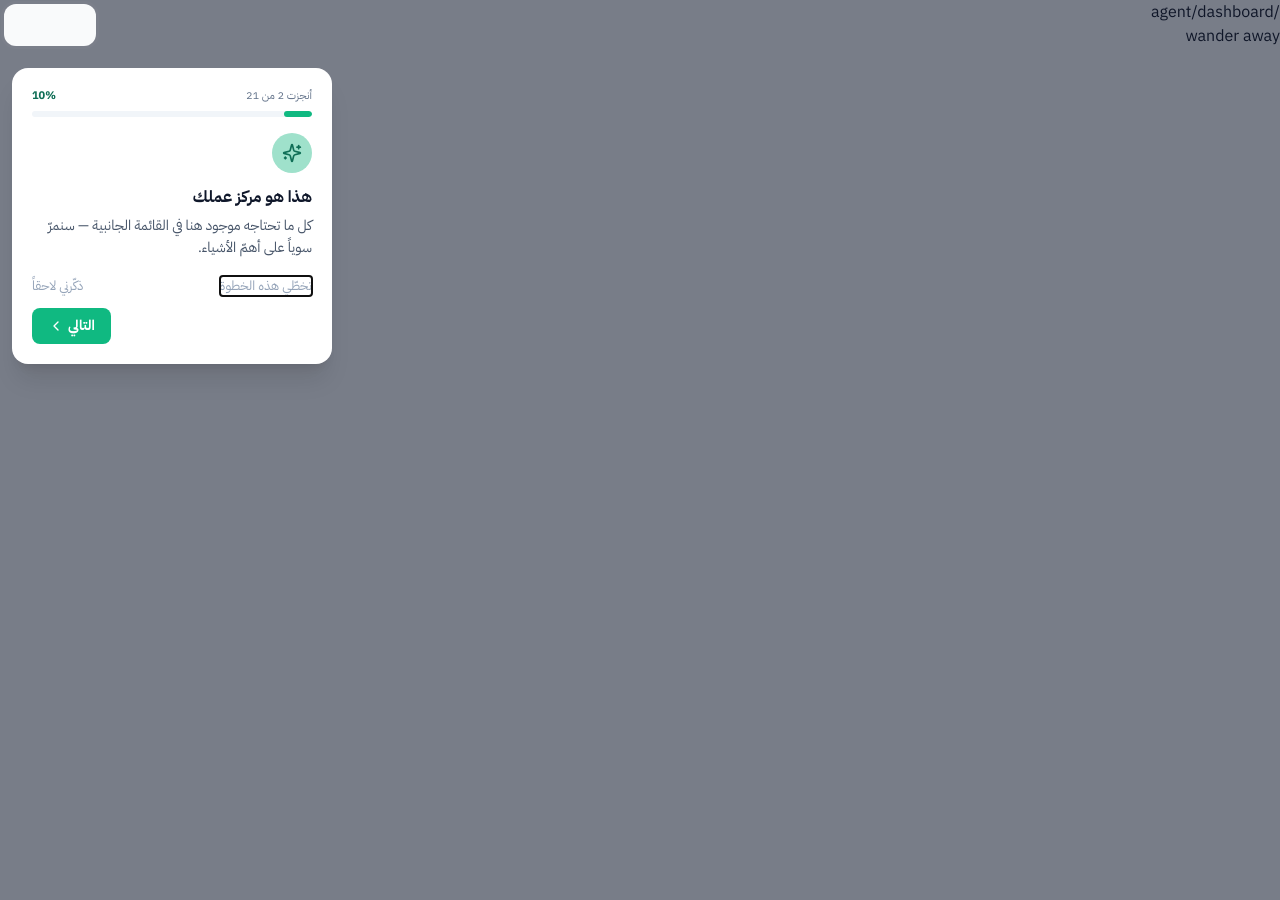
Test: GuidedTour › navigates the user into the real feature page as soon as its step becomes active, instead of just pointing at it from the dashboard
Click the button "التالي": (72, 326) x1=32 y1=308 x2=111 y2=344
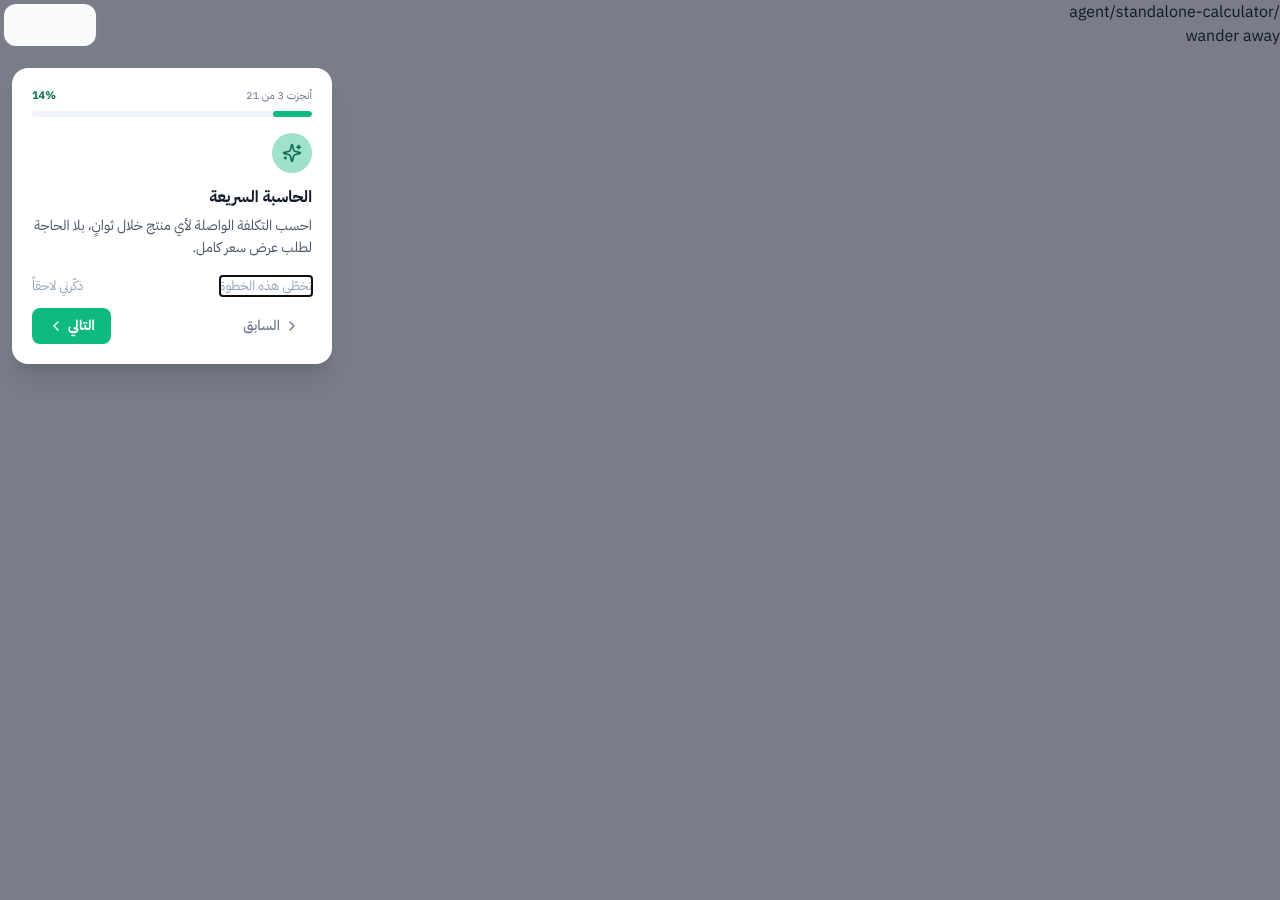
Expected: the dialog is shown, x1=12 y1=68 x2=332 y2=364
Now the text with test id "current-path" reads "/agent/standalone-calculator", box x1=1069 y1=0 x2=1279 y2=24
